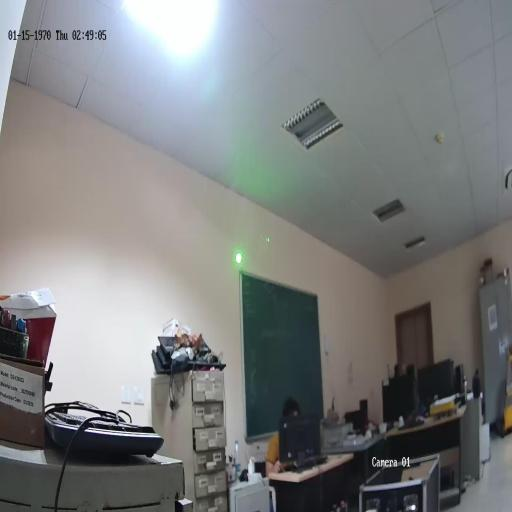laser: (234, 250, 243, 270)
